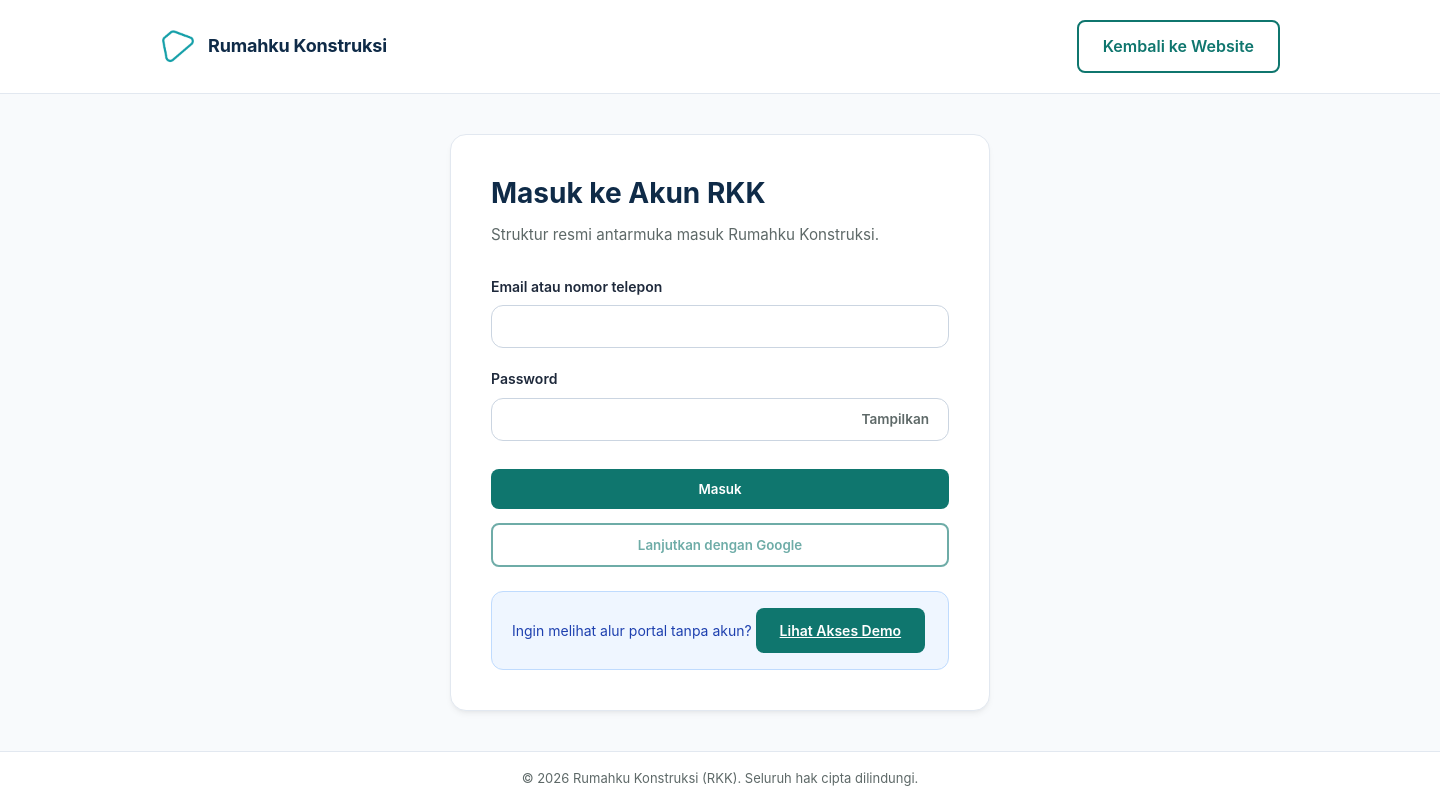
Scenario: PLAN-009 Access Pages, Sign-in, Routing & Boundary Tests › /sign-in Official Sign-in Page › validates required and format errors on submit without creating session
The width and height of the screenshot is (1440, 810).
Click the button "Masuk" at (720, 489), box x1=491 y1=469 x2=949 y2=509
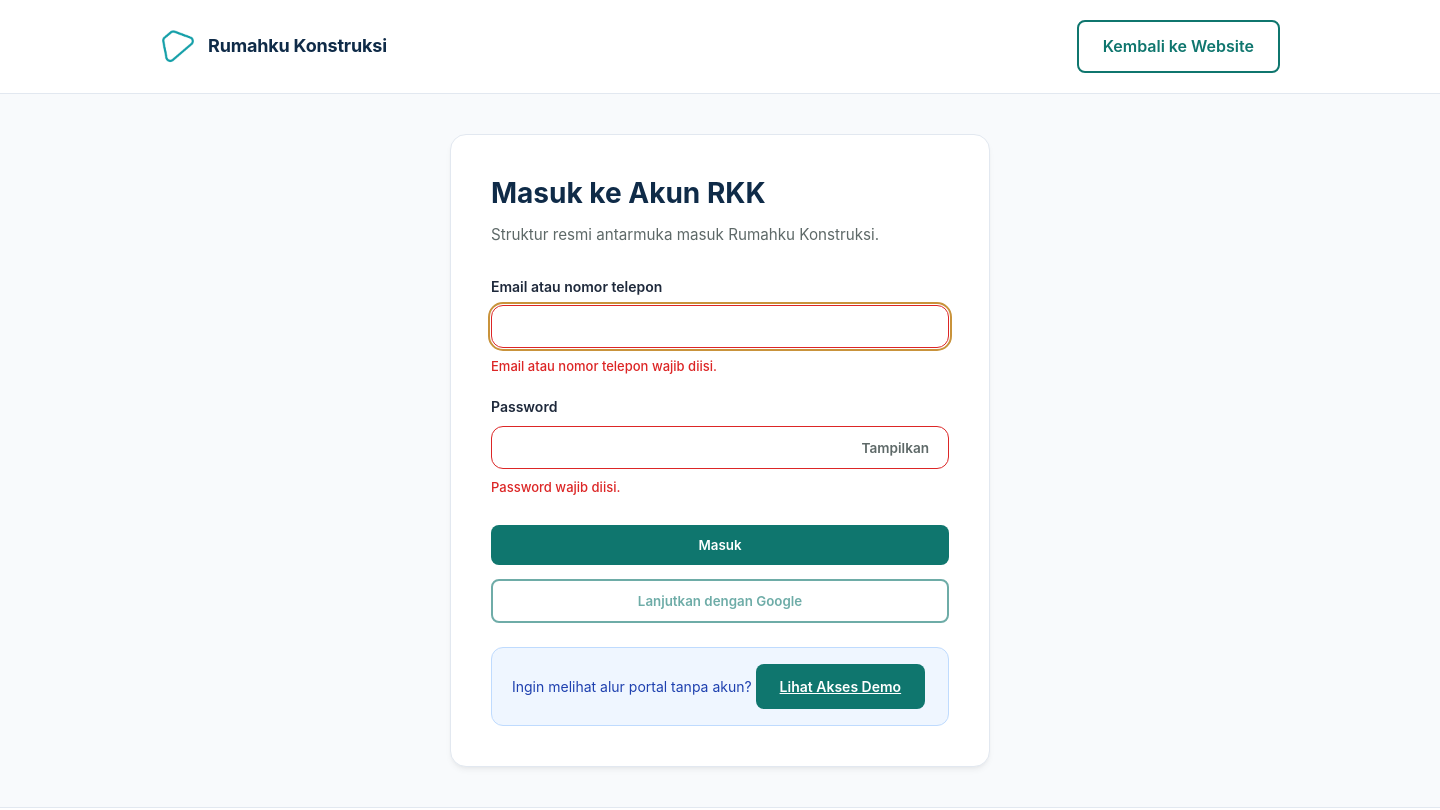
Now the text "Email atau nomor telepon wajib diisi." is shown, box x1=491 y1=358 x2=717 y2=374
Now the text "Password wajib diisi." is shown, box x1=491 y1=479 x2=620 y2=495
Test invalid format input "abc"
Type "abc" into the field labelled "Email atau nomor telepon" at (720, 327), box x1=491 y1=305 x2=949 y2=348
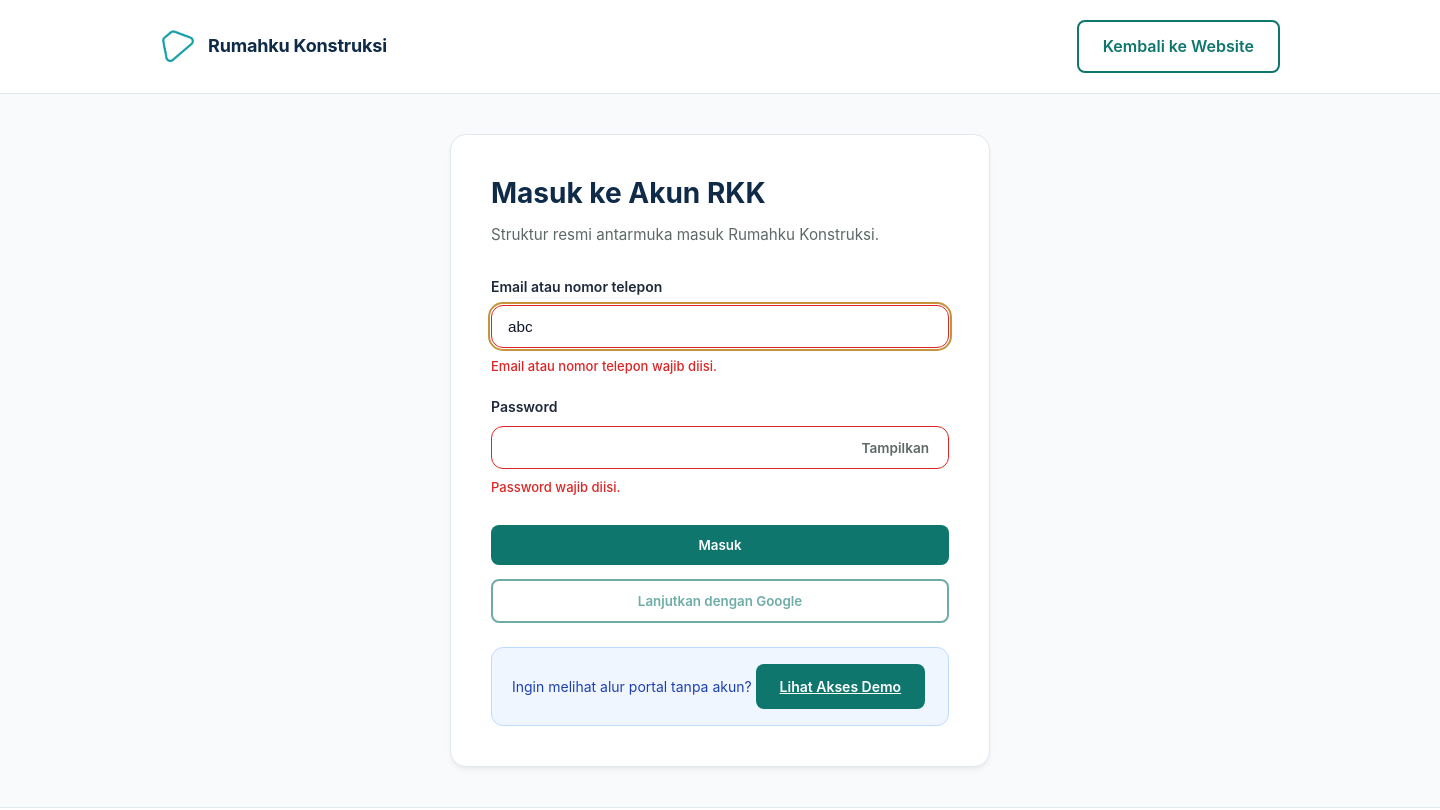
Click the button "Masuk" at (720, 545), box x1=491 y1=525 x2=949 y2=565
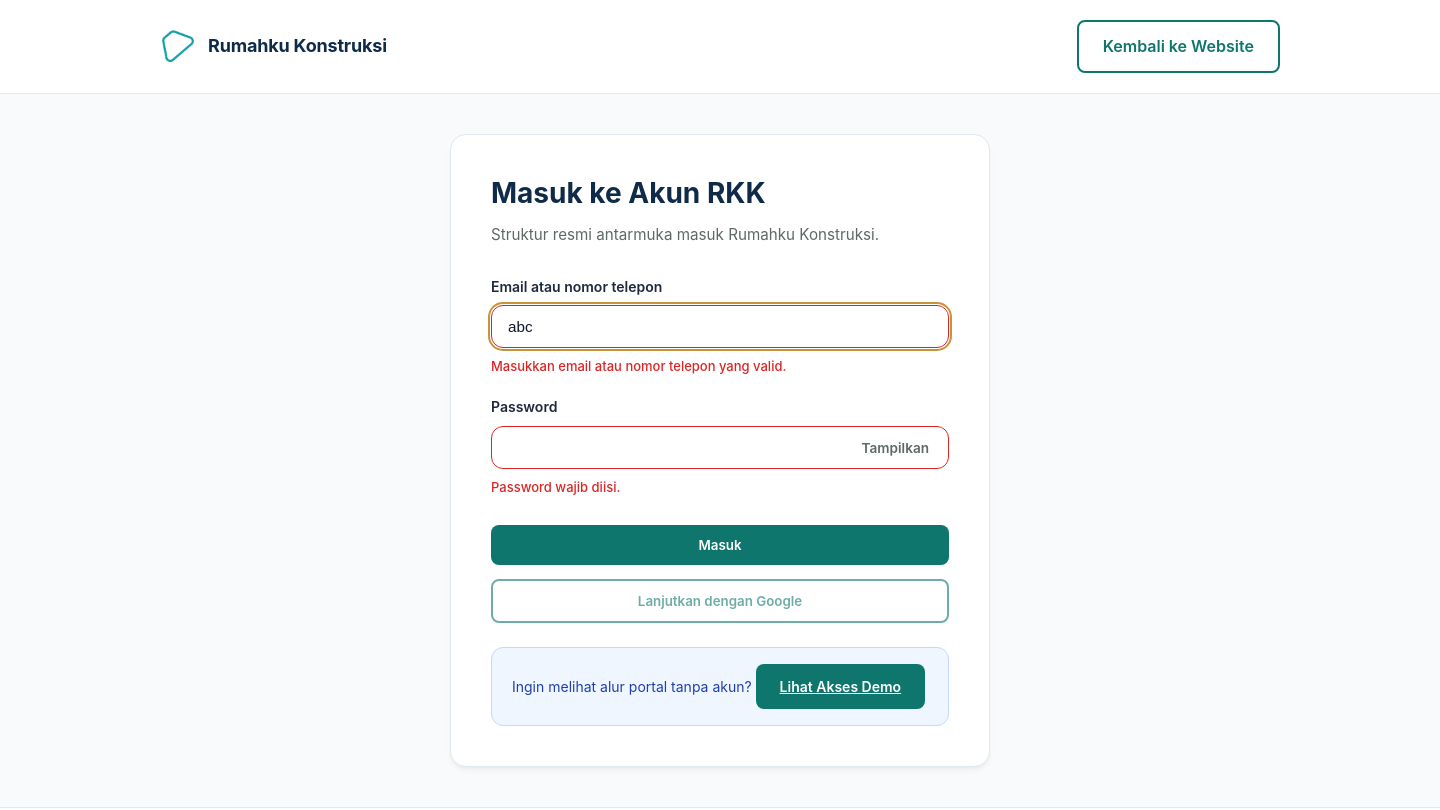
Now the text "Masukkan email atau nomor telepon yang valid." is shown, box x1=491 y1=358 x2=786 y2=374
